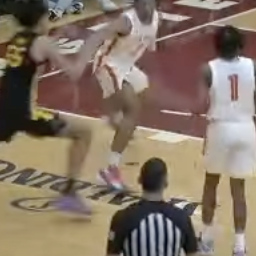block: (148, 131, 190, 143)
